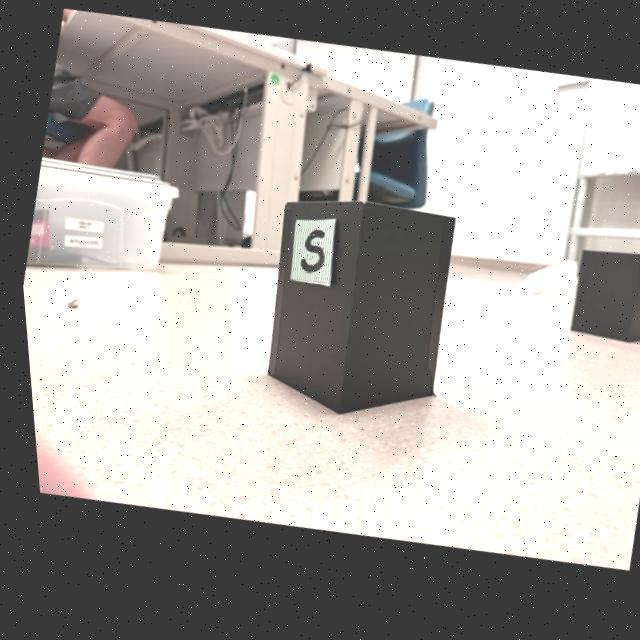S: (295, 235, 320, 278)
